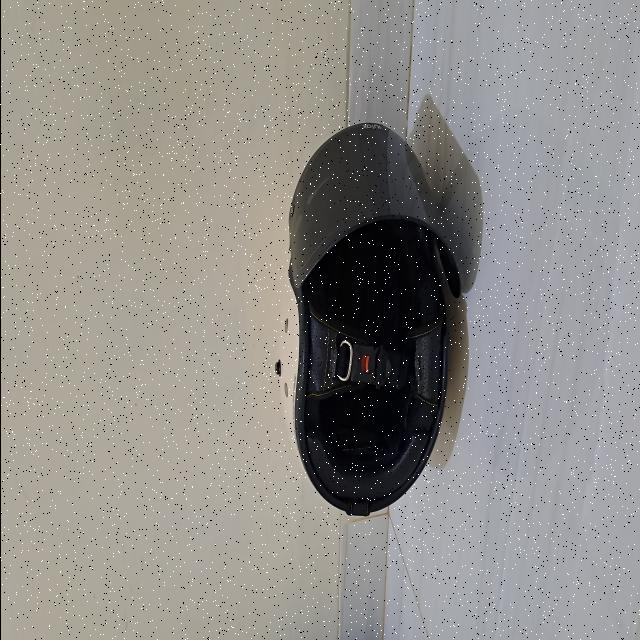Helmet: (289, 121, 462, 518)
